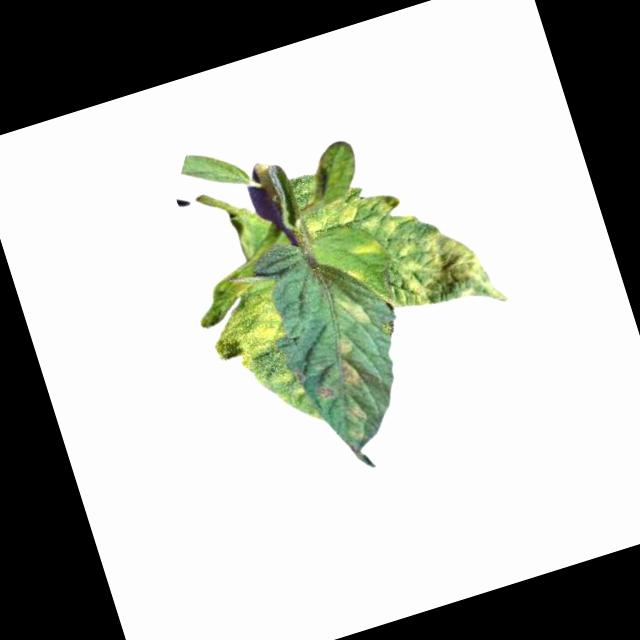Leaf_Mold: (368, 187, 512, 335), (190, 266, 291, 380), (299, 181, 397, 239), (338, 287, 376, 333), (336, 353, 368, 393), (340, 396, 372, 430), (349, 235, 382, 265), (334, 336, 359, 358)
